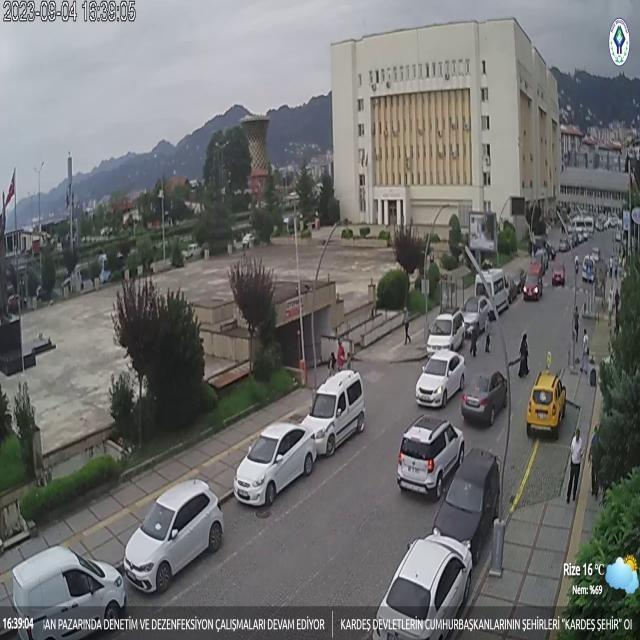Car: (125, 471, 228, 598), (9, 545, 128, 640), (431, 452, 504, 560), (232, 422, 320, 511), (394, 417, 468, 496), (461, 367, 508, 430), (524, 370, 566, 440), (413, 351, 466, 406), (426, 311, 464, 356), (457, 294, 489, 339), (551, 262, 568, 289)
Van: (302, 367, 367, 463), (474, 268, 509, 317), (521, 259, 542, 303)
